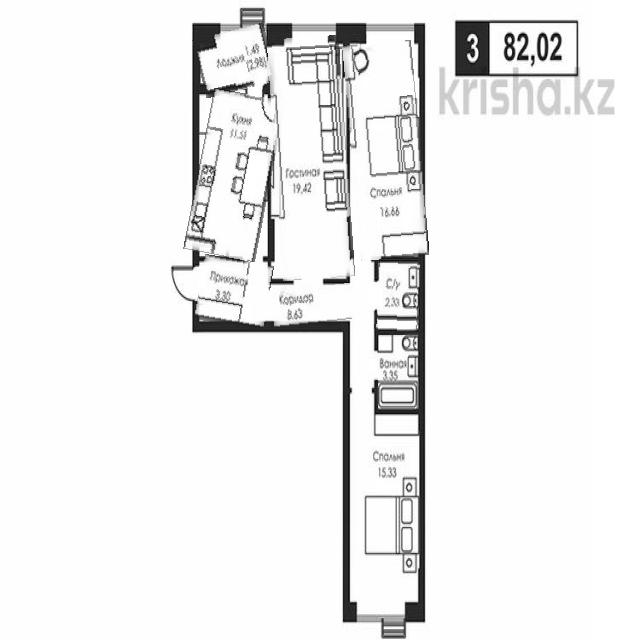balcony: (195, 27, 274, 95)
bathroom: (378, 336, 419, 418), (375, 260, 420, 331)
hallway: (196, 257, 272, 329), (271, 283, 372, 325)
kitchen: (191, 90, 278, 260)
living_room: (271, 36, 351, 280), (347, 42, 424, 260), (346, 415, 418, 608)
